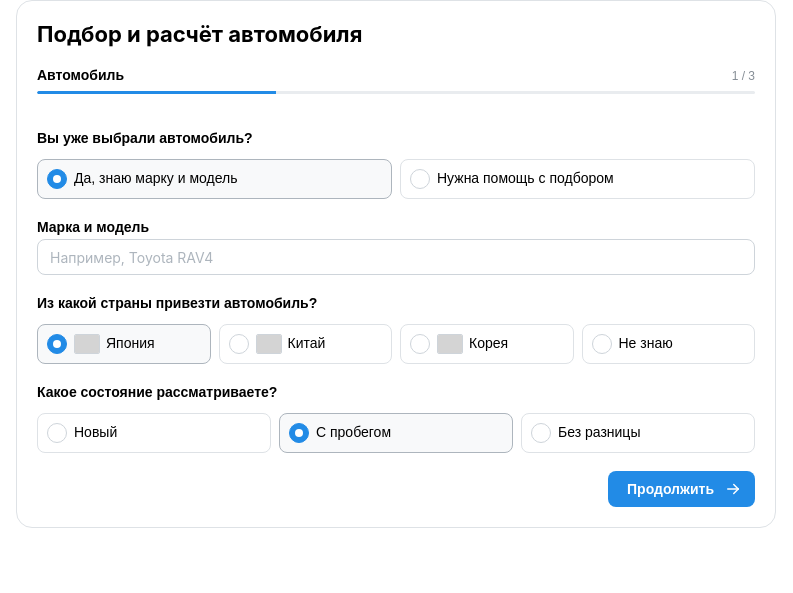
Scenario: отправляет моковую заявку и показывает резюме
The image size is (793, 593).
Type "Toyota RAV4" into the field labelled "Марка и модель" at {"x": 396, "y": 257}, box [37, 239, 755, 275]
Click the button "Продолжить" at {"x": 682, "y": 489}, box [608, 471, 755, 507]
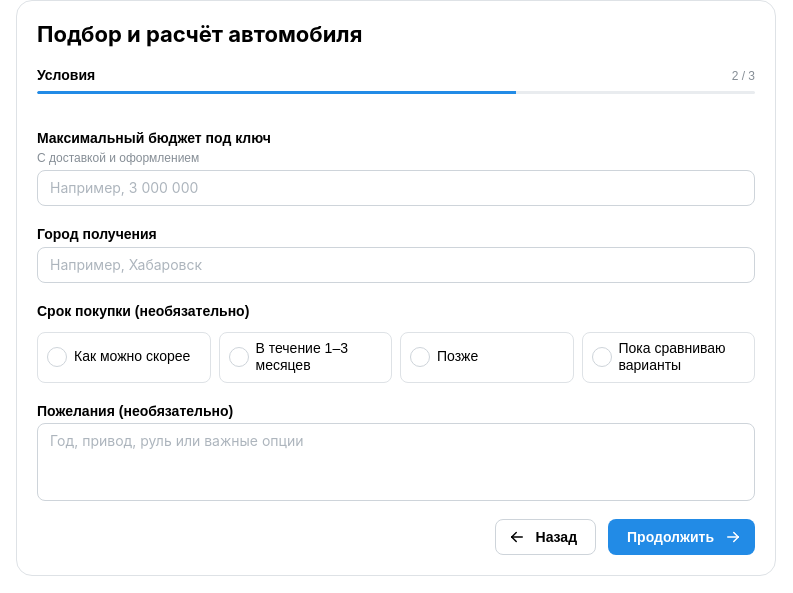
Type "3000000" into the field labelled "Максимальный бюджет под ключ" at {"x": 396, "y": 188}, box [37, 170, 755, 206]
Type "Хабаровск" into the field labelled "Город получения" at {"x": 396, "y": 265}, box [37, 247, 755, 283]
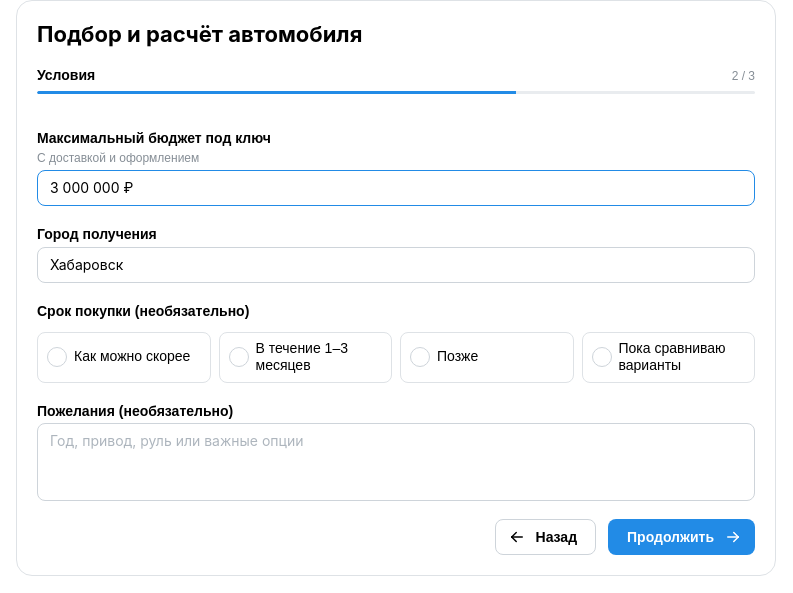
Click the button "Продолжить" at {"x": 682, "y": 537}, box [608, 519, 755, 555]
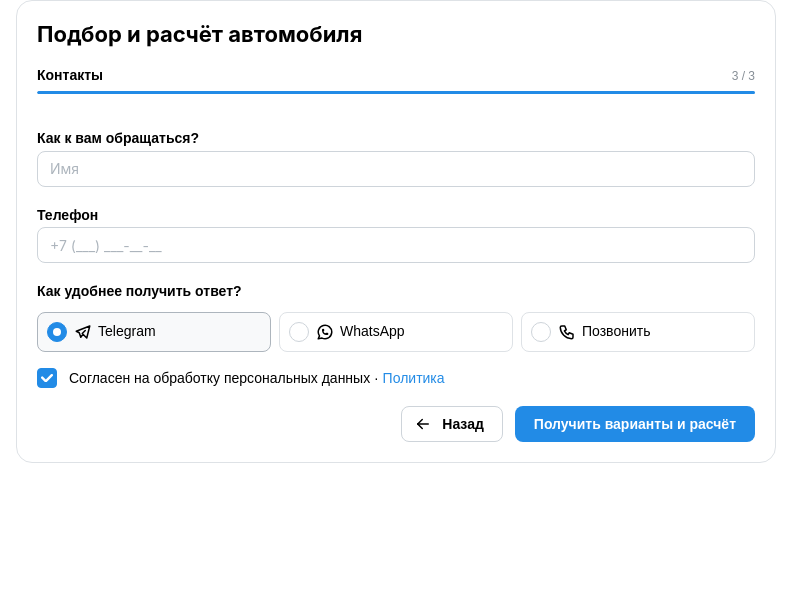
Type "Анна" into the field labelled "Как к вам обращаться?" at {"x": 396, "y": 169}, box [37, 151, 755, 187]
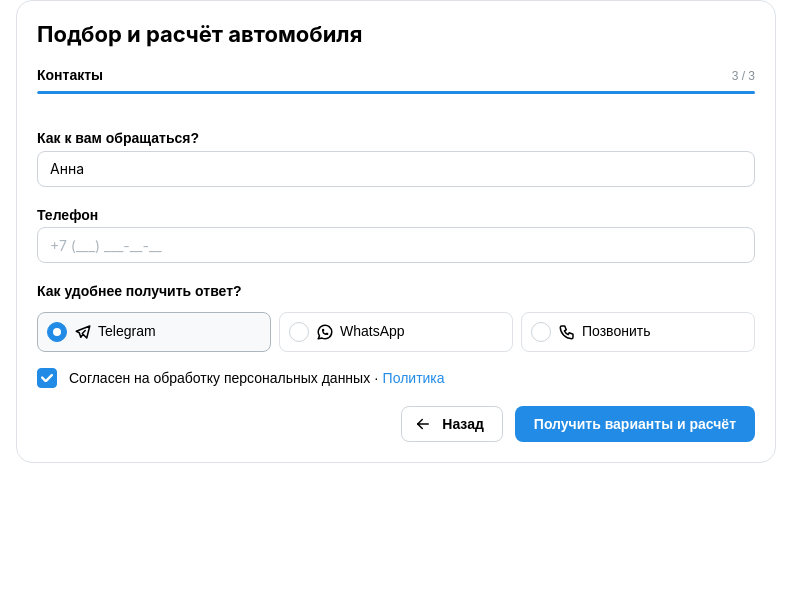
Type "8 999 123-45-67" into the field labelled "Телефон" at {"x": 396, "y": 245}, box [37, 227, 755, 263]
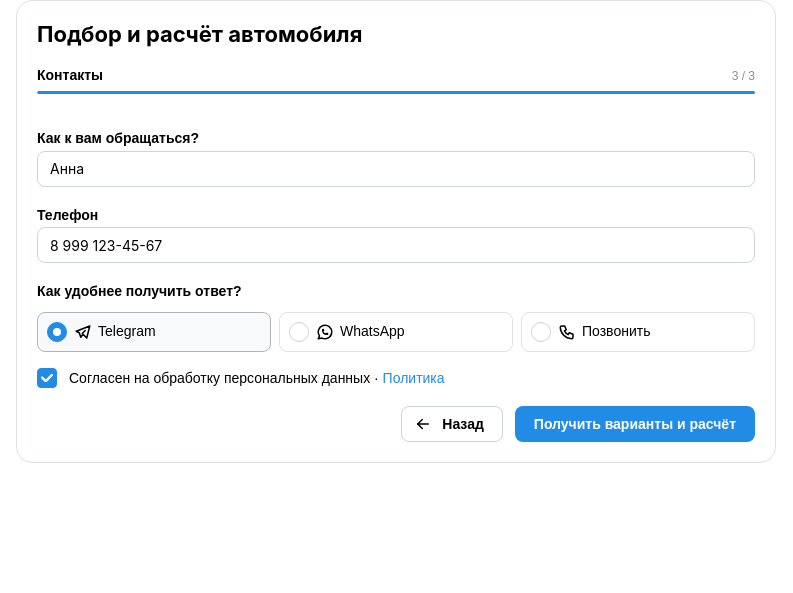
Click the button "Получить варианты и расчёт" at {"x": 635, "y": 424}, box [515, 406, 755, 442]
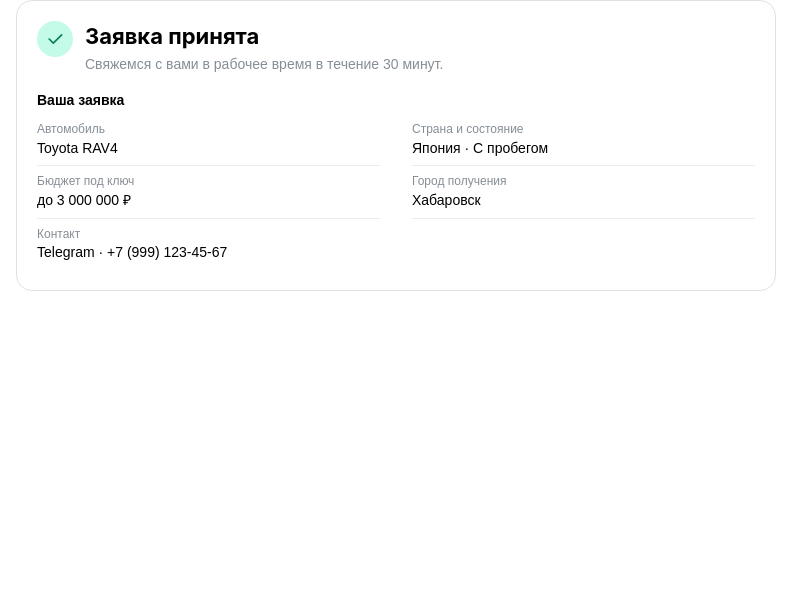
Result: the heading "Заявка принята" is shown at [85, 23, 259, 49]
Result: the text "Toyota RAV4" is shown at [37, 140, 118, 156]
